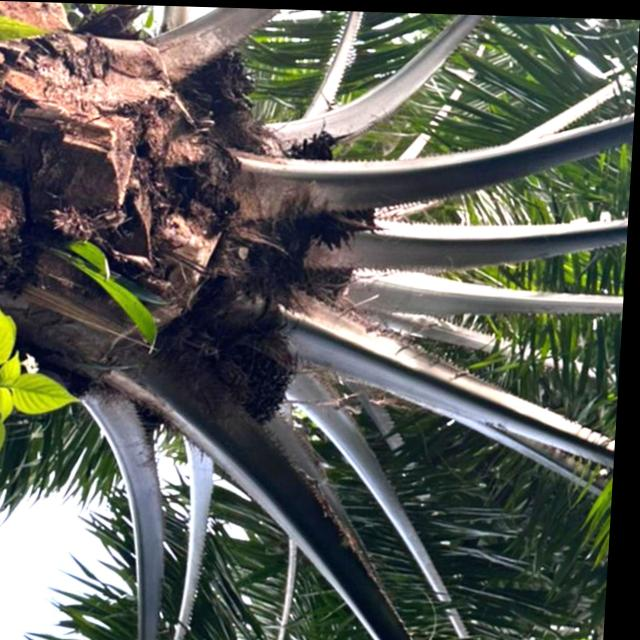unripe: (185, 310, 313, 450)
